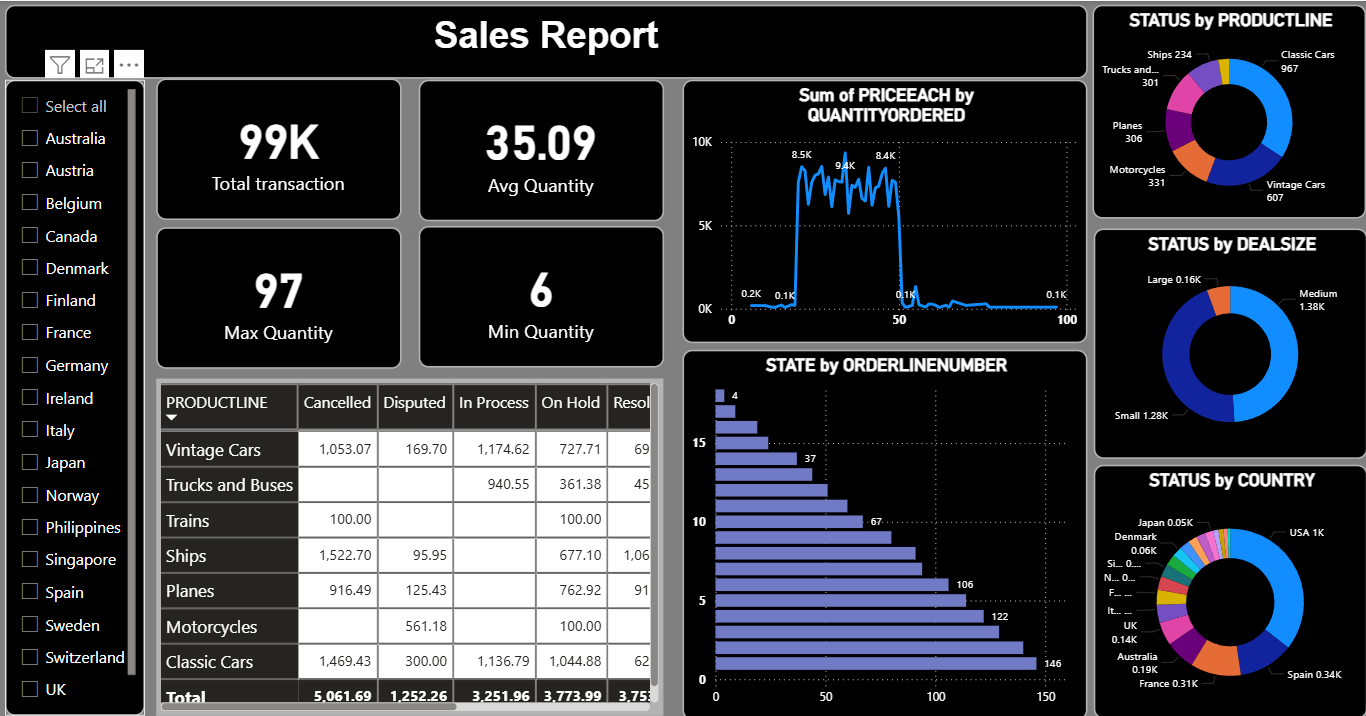

What the dashboard file says about the page in this screenshot:
{"tool":"powerbi","page":{"name":"Page 1","canvas":[1400,737],"ordinal":0},"visuals":[{"type":"textbox","box":[10.2,3.8,1101.4,75],"z":0},{"type":"donutChart","fields":{"Y":["CountNonNull(Sales_Data1.STATUS)"],"Category":["Sales_Data1.COUNTRY"]},"box":[1117.9,471.8,278.5,258.2],"z":1000},{"type":"donutChart","fields":{"Y":["CountNonNull(Sales_Data1.STATUS)"],"Category":["Sales_Data1.DEALSIZE"]},"box":[1117.9,231.5,278.5,234],"z":2000},{"type":"donutChart","fields":{"Y":["CountNonNull(Sales_Data1.STATUS)"],"Category":["Sales_Data1.PRODUCTLINE"]},"box":[1116.6,3.8,278.5,217.5],"z":3000},{"type":"barChart","fields":{"Category":["Sales_Data1.ORDERLINENUMBER"],"Y":["CountNonNull(Sales_Data1.STATE)"]},"box":[699.5,354.8,412.1,376.5],"z":4000},{"type":"lineChart","fields":{"Y":["Sum(Sales_Data1.PRICEEACH)"],"Category":["Sales_Data1.QUANTITYORDERED"]},"box":[699.5,80.1,412.1,268.4],"z":5000},{"type":"pivotTable","fields":{"Rows":["Sales_Data1.PRODUCTLINE"],"Columns":["Sales_Data1.STATUS"],"Values":["Sum(Sales_Data1.PRICEEACH)"]},"box":[164.1,384.1,516.4,343.4],"z":6000},{"type":"slicer","fields":{"Values":["Sales_Data1.COUNTRY"]},"box":[10.2,80.1,142.4,647.3],"z":7000},{"type":"card","fields":{"Values":["Sum(Sales_Data1.QUANTITYORDERED)"]},"box":[164.1,78.9,249.3,143.7],"z":8000},{"type":"card","fields":{"Values":["Avg(Sales_Data1.QUANTITYORDERED)"]},"box":[431.1,80.1,249.3,143.7],"z":9000},{"type":"card","fields":{"Values":["Max(Sales_Data1.QUANTITYORDERED)"]},"box":[164.1,230.2,249.3,143.7],"z":10000},{"type":"card","fields":{"Values":["Min(Sales_Data1.QUANTITYORDERED)"]},"box":[431.1,228.9,249.3,143.7],"z":11000}]}

Visuals, with their boxes in screenshot pixels (x1, y1, x2, y2):
textbox: detection(0, 0, 1088, 75)
donutChart - CountNonNull(Sales_Data1.STATUS) x Sales_Data1.COUNTRY: detection(1095, 464, 1365, 715)
donutChart - CountNonNull(Sales_Data1.STATUS) x Sales_Data1.DEALSIZE: detection(1095, 226, 1365, 458)
donutChart - CountNonNull(Sales_Data1.STATUS) x Sales_Data1.PRODUCTLINE: detection(1093, 0, 1365, 216)
barChart - Sales_Data1.ORDERLINENUMBER x CountNonNull(Sales_Data1.STATE): detection(680, 348, 1088, 715)
lineChart - Sum(Sales_Data1.PRICEEACH) x Sales_Data1.QUANTITYORDERED: detection(680, 76, 1088, 342)
pivotTable - Sales_Data1.PRODUCTLINE x Sales_Data1.STATUS: detection(149, 377, 661, 715)
slicer - Sales_Data1.COUNTRY: detection(0, 76, 137, 715)
card - Sum(Sales_Data1.QUANTITYORDERED): detection(149, 75, 396, 217)
card - Avg(Sales_Data1.QUANTITYORDERED): detection(413, 76, 661, 218)
card - Max(Sales_Data1.QUANTITYORDERED): detection(149, 225, 396, 367)
card - Min(Sales_Data1.QUANTITYORDERED): detection(413, 223, 661, 366)
